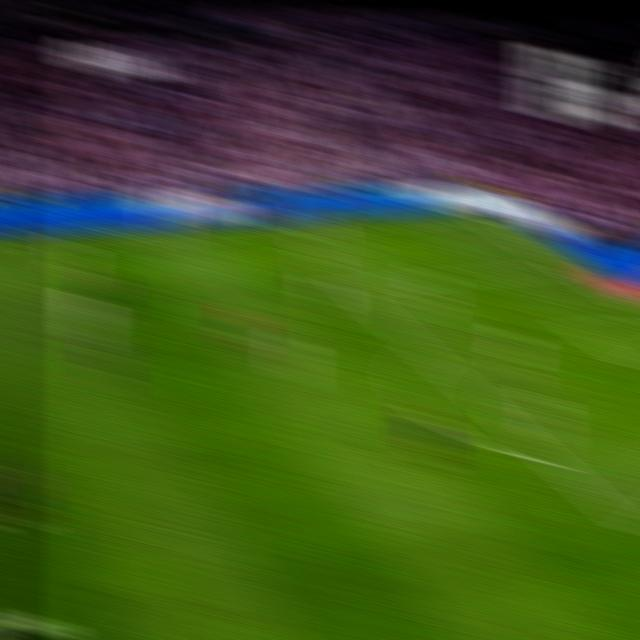bigarea_bottom_inner: (628, 520, 640, 557)
bigarea_top_inner: (334, 275, 364, 296)
bigarea_top_outter: (545, 256, 574, 276)
bottom_arc_area_intersection: (537, 449, 569, 474)
corner: (456, 207, 488, 223)
smallarea_top_inner: (565, 320, 592, 339)
top_arc_area_intersection: (412, 342, 443, 365)
